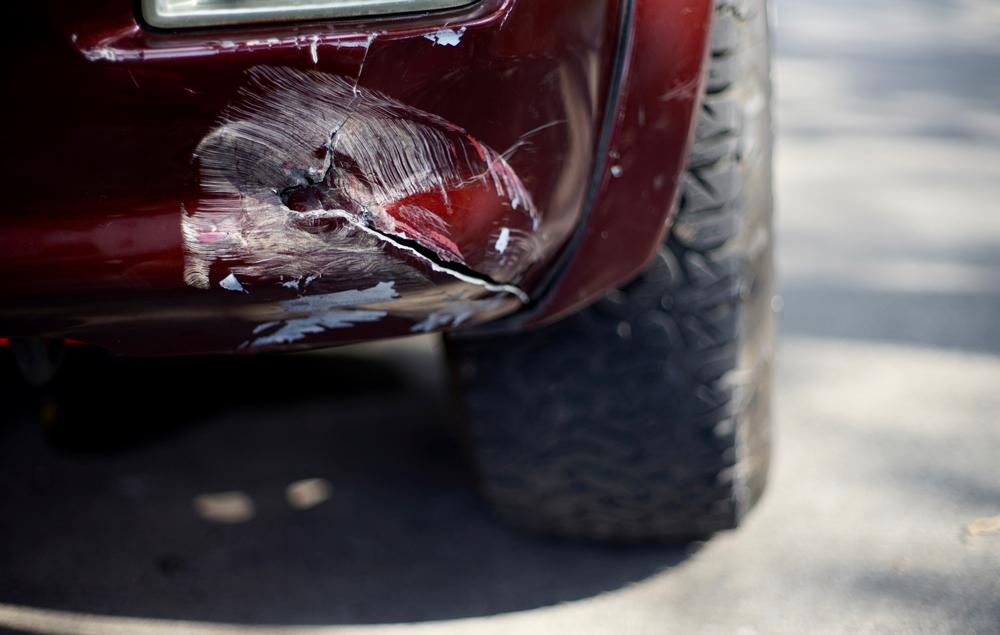crack: (359, 221, 527, 298)
scratch: (170, 61, 559, 351)
